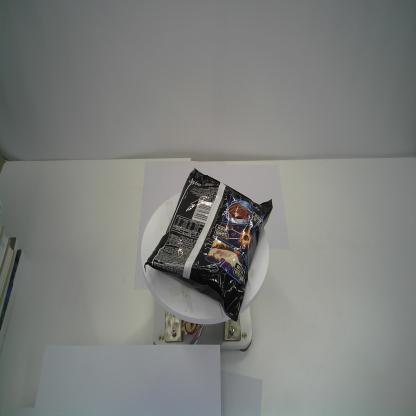Instant Noodles: (145, 167, 274, 322)
